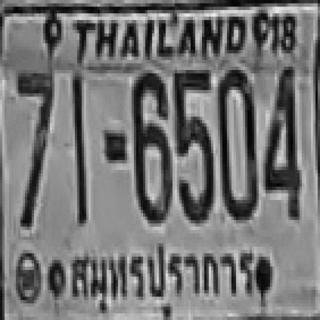N00: (216, 67, 256, 217)
N01: (70, 73, 86, 220)
N04: (263, 63, 300, 217)
N05: (173, 67, 213, 220)
N06: (132, 72, 170, 222)
N07: (16, 70, 52, 227)
P57: (66, 234, 255, 311)
